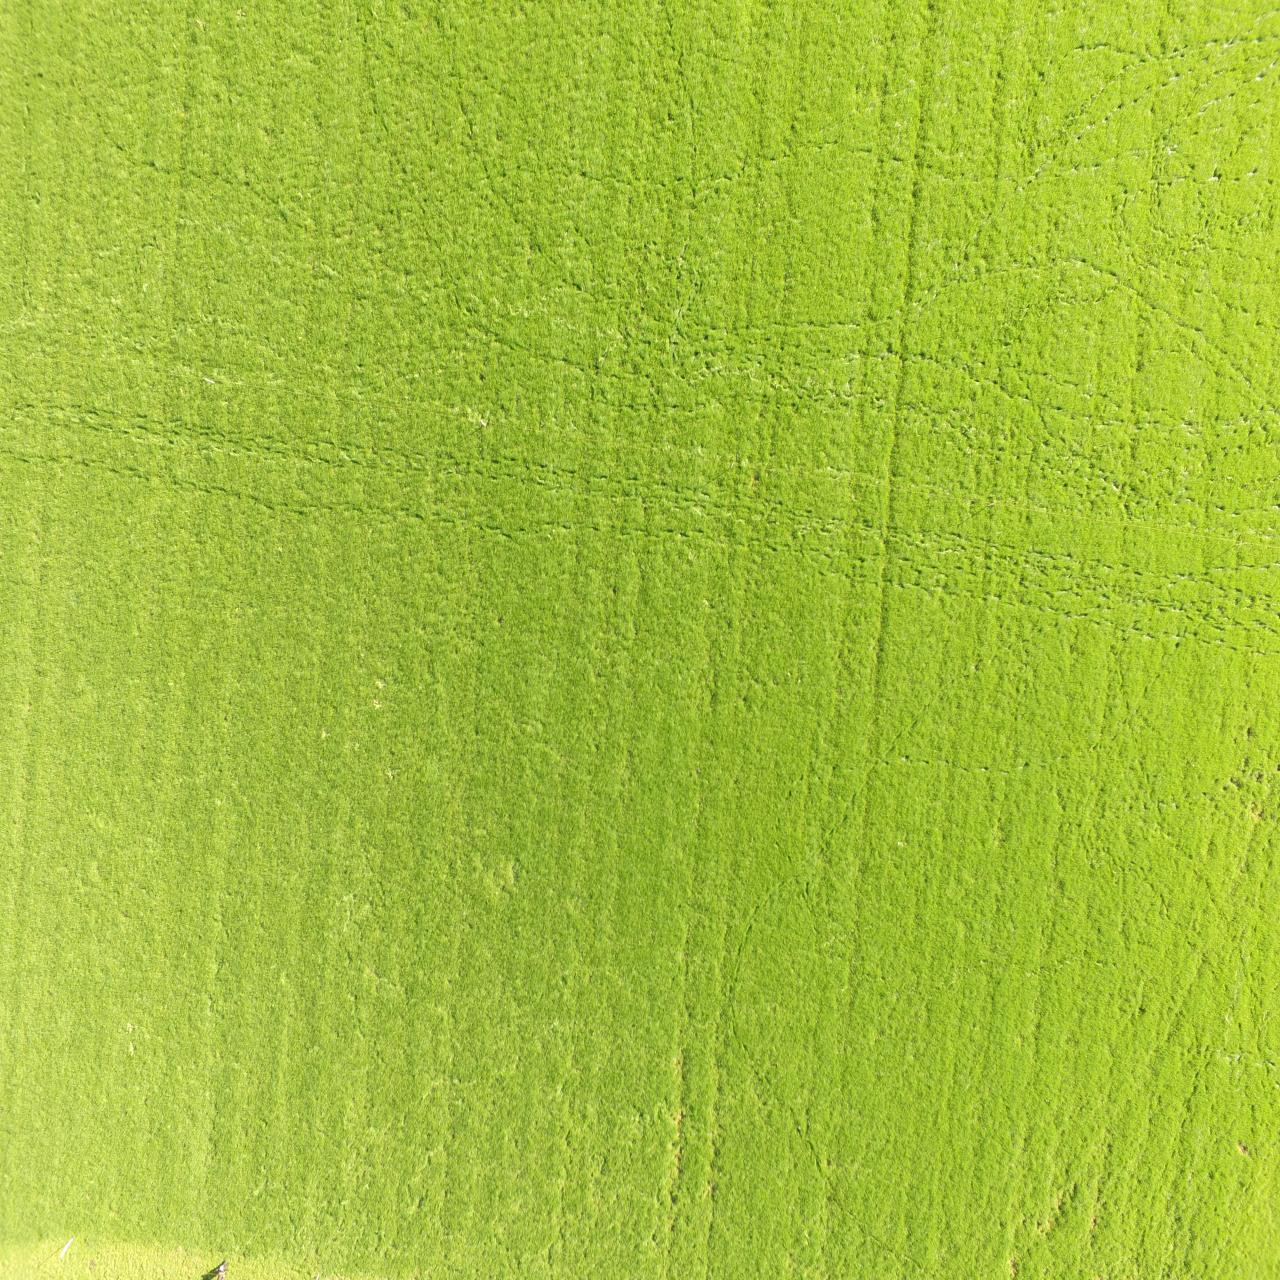cow: (216, 1258, 229, 1280)
